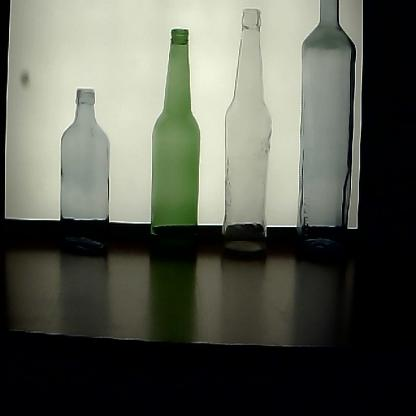Can: (293, 1, 358, 267), (217, 9, 275, 268), (146, 29, 204, 266), (55, 85, 116, 267)
